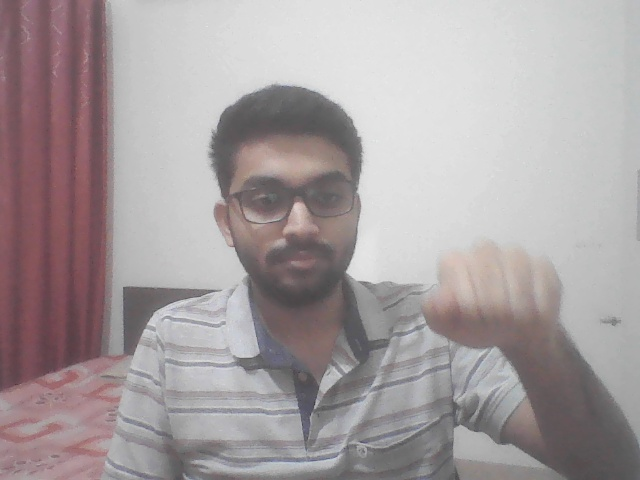yes: (409, 226, 592, 364)
